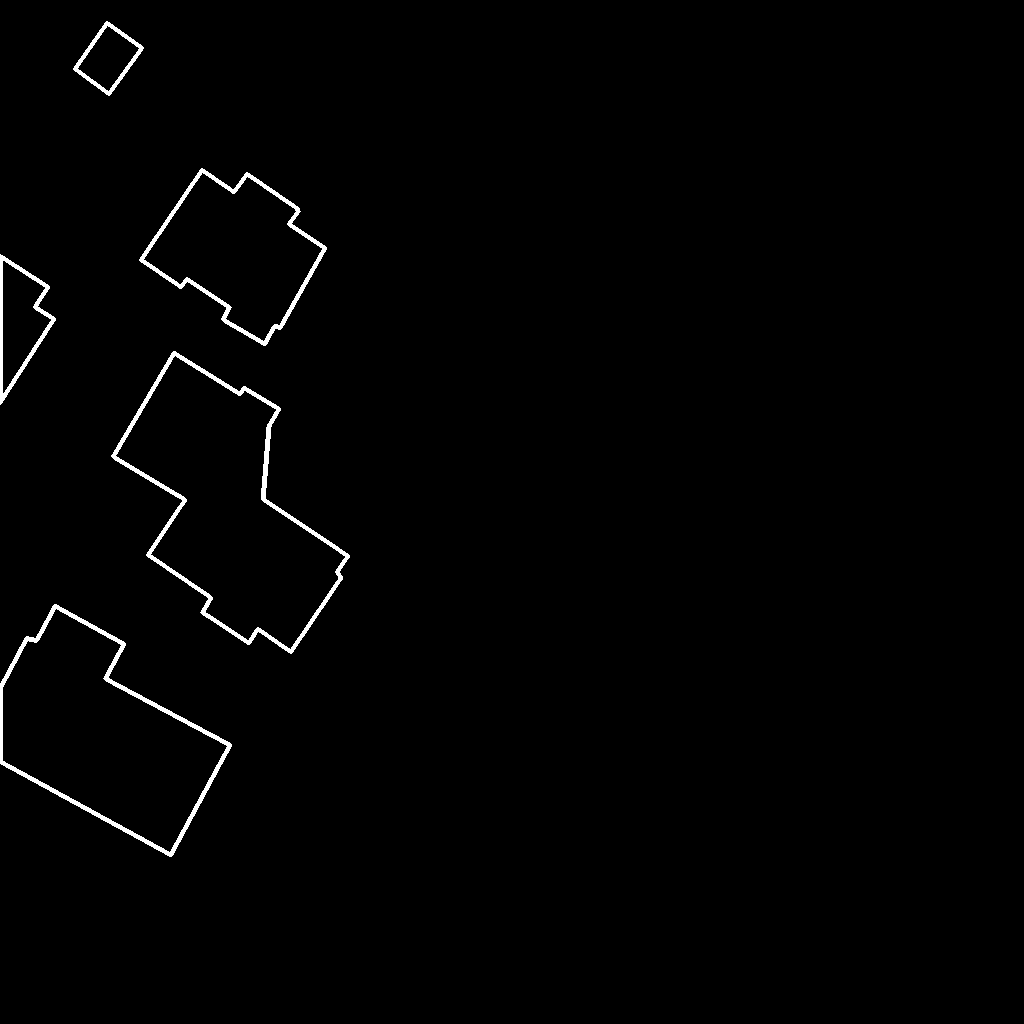building: (113, 353, 349, 653), (0, 606, 231, 856), (141, 170, 326, 345), (0, 256, 55, 404), (75, 23, 143, 95)
